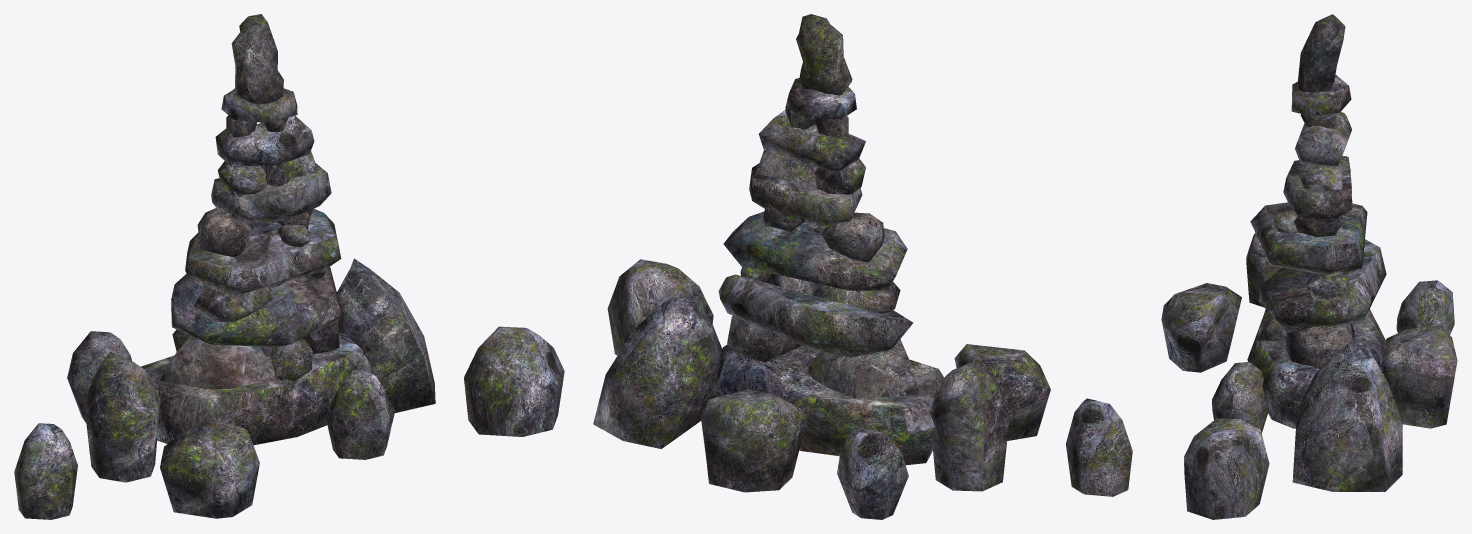
The model's file is cairn_02_00.fbx.
3 views of the same model, side by side, from view 1: azimuth 30°, elevation 25°; view 2: azimuth 150°, elevation 25°; view 3: azimuth 270°, elevation 25° (orthographic). The views are drawn at different scales.
Visible parts, largest first — view 1: cairn_02_00; view 2: cairn_02_00; view 3: cairn_02_00.
Part boxes in pixels (<box>): cairn_02_00: <box>14,14,564,519</box>; cairn_02_00: <box>593,14,1132,519</box>; cairn_02_00: <box>1161,14,1457,519</box>.
Bounding box in the file's own units: 40.12 × 31.06 × 21.02.
